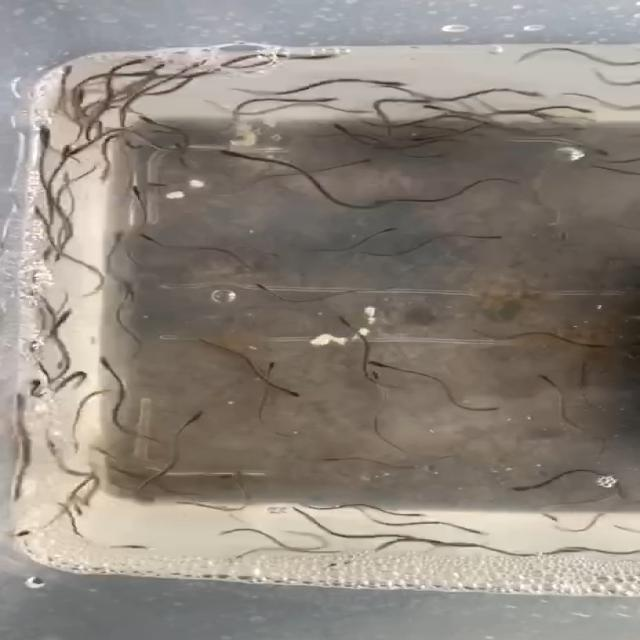inactive_glass_eel: (564, 104, 617, 122), (103, 283, 147, 304), (459, 230, 516, 242), (125, 111, 163, 129), (203, 524, 238, 542), (204, 148, 252, 160), (370, 192, 401, 210), (418, 102, 457, 116), (521, 87, 558, 101), (33, 126, 55, 149), (133, 230, 159, 249), (308, 52, 356, 62), (276, 386, 318, 397), (348, 156, 381, 170), (120, 178, 143, 198), (359, 370, 383, 389), (102, 227, 128, 244), (364, 361, 404, 372), (120, 56, 164, 66), (448, 523, 487, 534), (85, 356, 120, 368), (372, 78, 414, 88), (472, 402, 504, 415), (317, 120, 351, 132), (319, 456, 352, 468), (235, 280, 268, 292), (56, 144, 78, 162), (588, 142, 612, 158), (402, 510, 440, 520), (328, 314, 355, 327), (379, 226, 404, 240), (306, 94, 341, 104), (532, 368, 554, 383), (118, 541, 148, 551), (406, 134, 429, 147), (211, 472, 240, 482), (150, 59, 176, 70), (509, 482, 536, 492), (540, 512, 559, 526), (183, 409, 209, 419), (187, 59, 217, 67), (61, 66, 81, 78), (257, 357, 278, 367), (414, 118, 432, 126)
